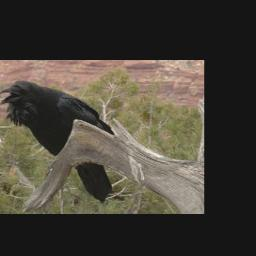Crow: (0, 80, 115, 204)
